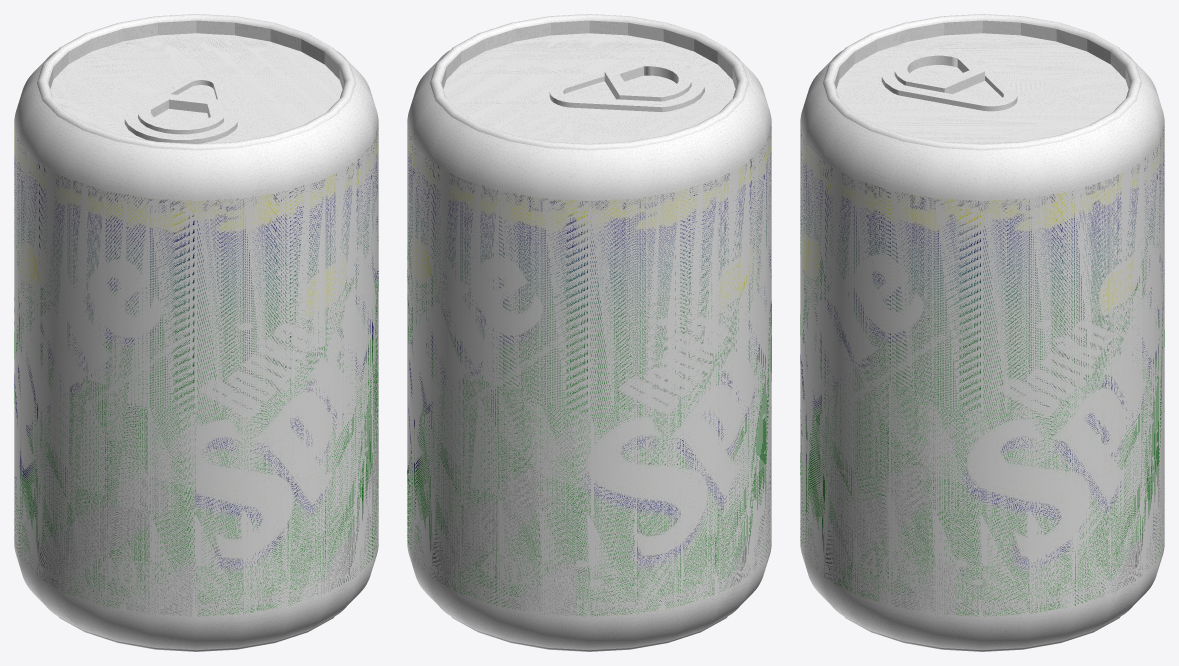
Rendered from Sprite2Can.dae.
The picture shows the model from 3 angles, left to right: view 1: azimuth 30°, elevation 25°; view 2: azimuth 150°, elevation 25°; view 3: azimuth 270°, elevation 25°; orthographic projection.
Parts seen in each view (by area): view 1: SketchUp (×6); view 2: SketchUp (×6); view 3: SketchUp (×6).
Part boxes in pixels (box(x1,y1,x2,y2)): SketchUp (×6): box(14, 14, 378, 651); SketchUp (×6): box(407, 14, 771, 651); SketchUp (×6): box(800, 14, 1164, 651).
Size of the model in its own units: 3.63 by 3.63 by 5.57.
Materials: 3 (2 with a texture image).
